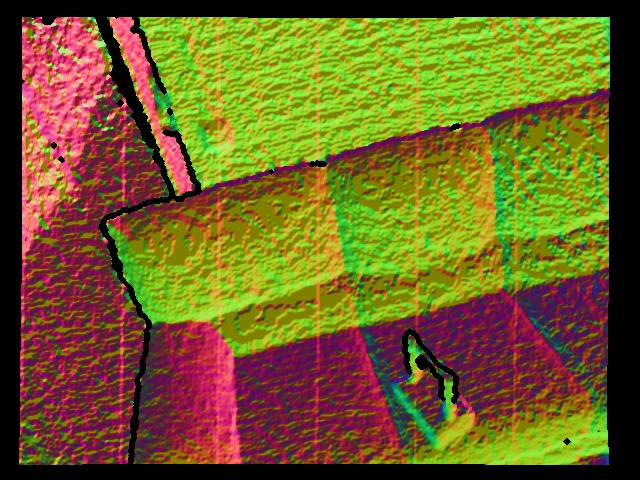station: (391, 333, 477, 447)
